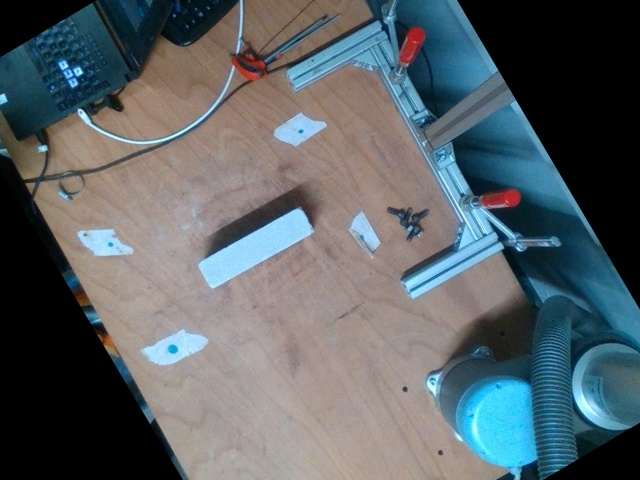brick-side: (196, 207, 312, 288)
